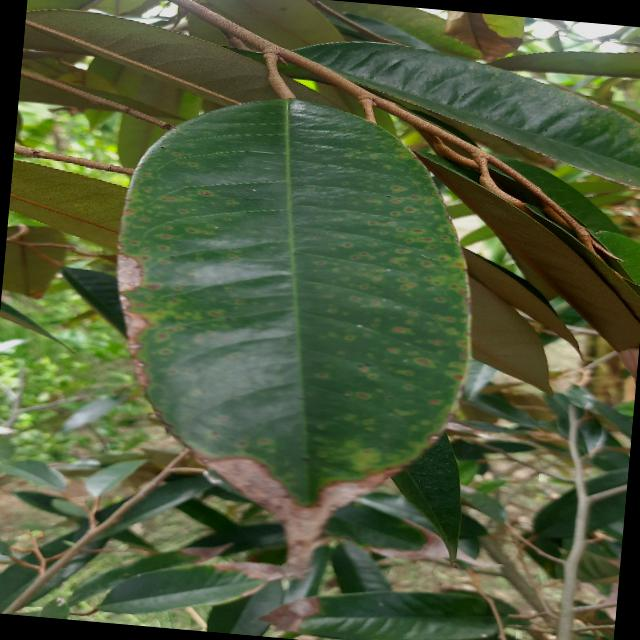Leaf Spot: (82, 73, 508, 599)
